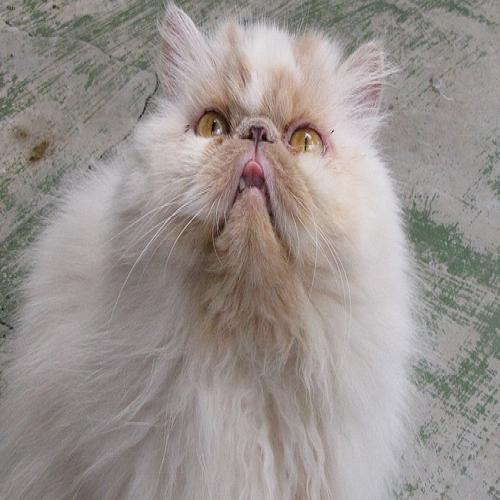persian: (153, 1, 388, 324)
